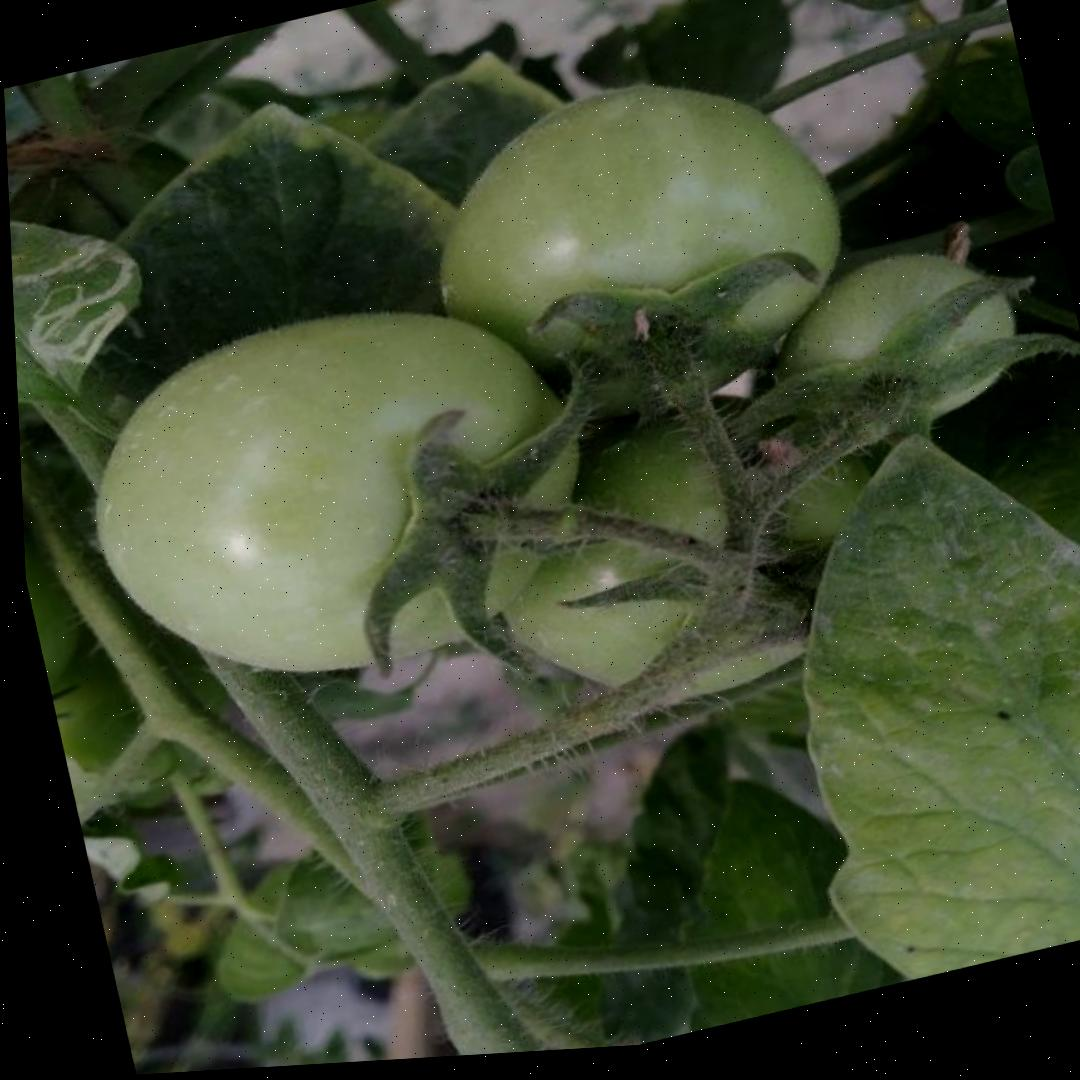mentah: (55, 262, 618, 726), (399, 42, 872, 459), (464, 362, 920, 739), (745, 229, 1037, 467)
